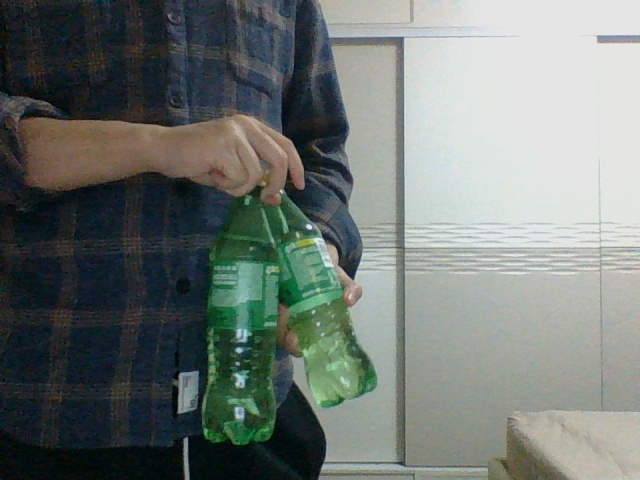Sprite: (279, 186, 379, 408), (200, 176, 279, 446)
